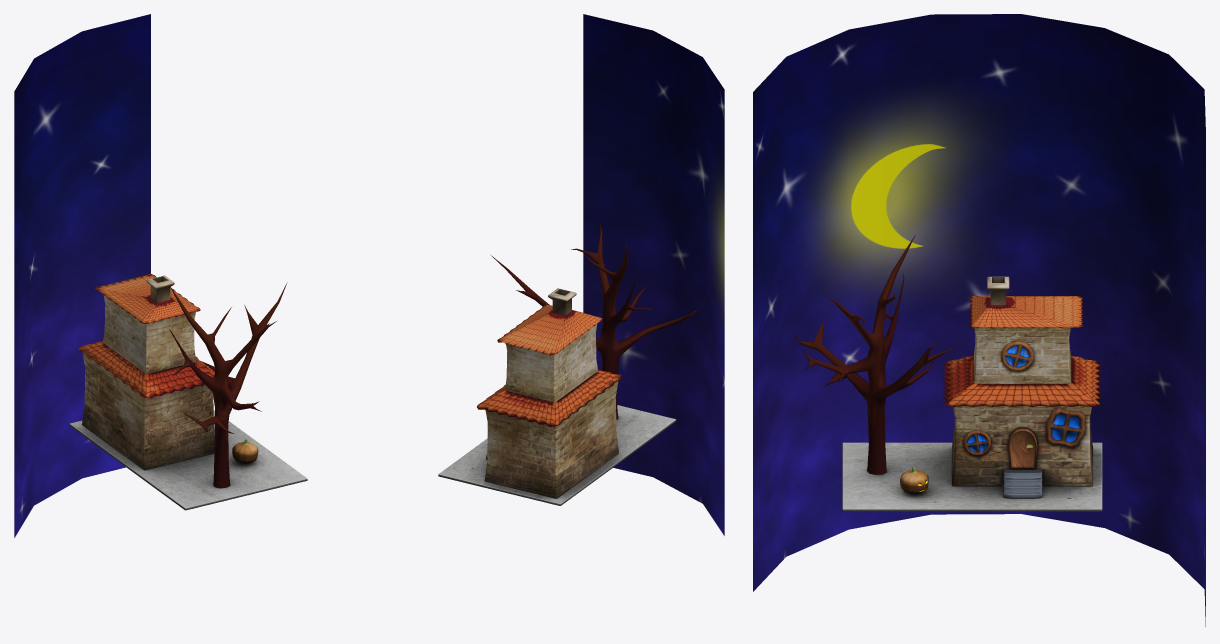
File: casabruja.obj
3 views of the same model, side by side, from view 1: azimuth 30°, elevation 25°; view 2: azimuth 150°, elevation 25°; view 3: azimuth 270°, elevation 25° (orthographic). The views are drawn at different scales.
Parts seen in each view (by area): view 1: Cylinder.002, Cube.003; view 2: Cylinder.002, Cube.003; view 3: Cylinder.002, Cube.003.
Part boxes in pixels (x1,y1,x2,y2): Cylinder.002: [14, 14, 150, 537]; Cube.003: [69, 274, 307, 510]; Cylinder.002: [583, 14, 724, 535]; Cube.003: [438, 221, 697, 505]; Cylinder.002: [753, 14, 1205, 626]; Cube.003: [794, 235, 1102, 511].
Bounding box in the file's own units: 18.88 × 35.91 × 29.46.
Materials: 2 (2 with a texture image).
